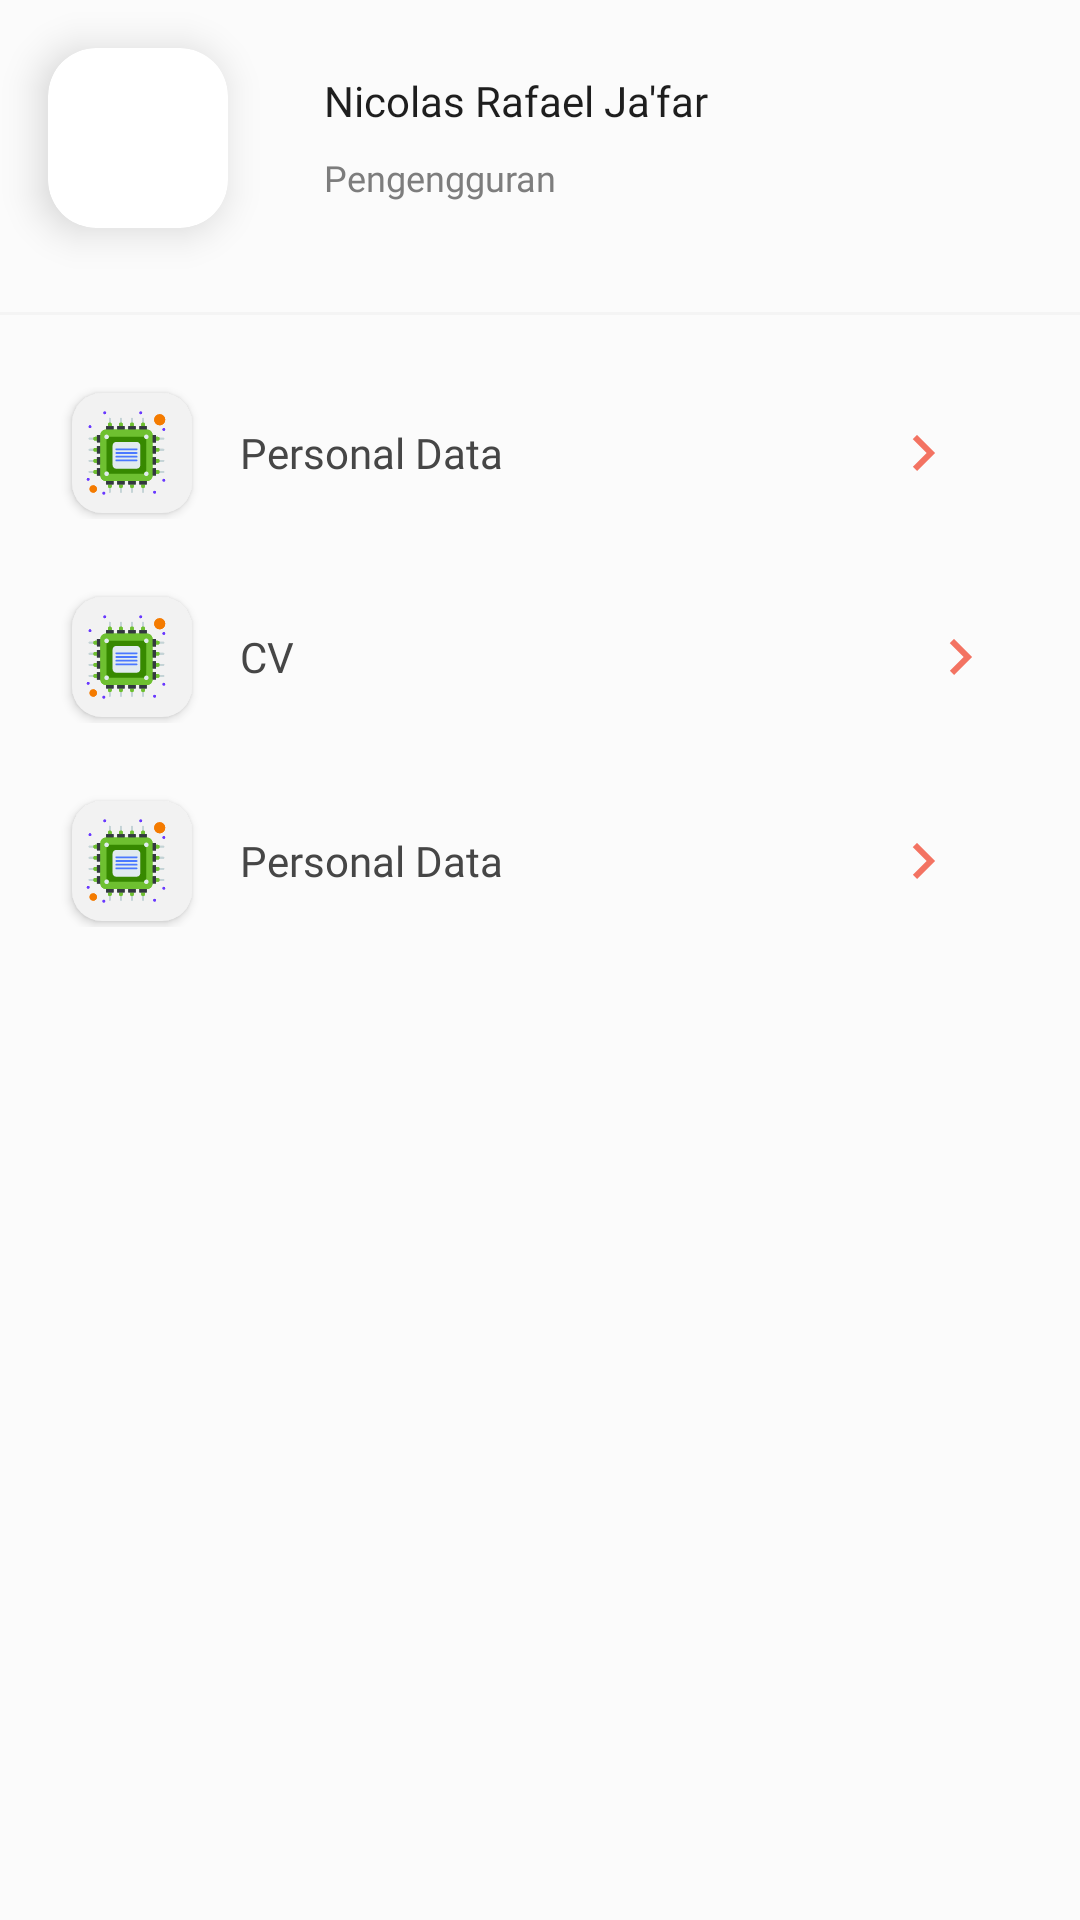

Named icons in this screenshot (1080×1920) and their bounding boxes, (x1, y1, x2, y2):
arrow right: (913, 435, 935, 471), (950, 639, 972, 675), (913, 843, 935, 879)
